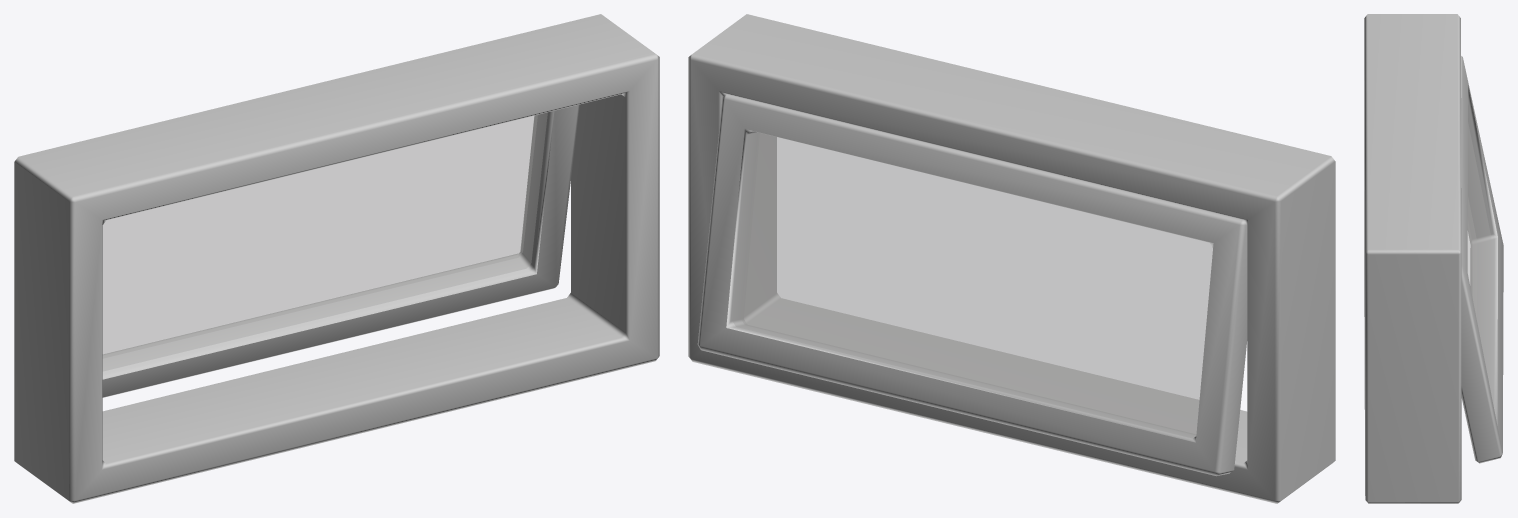
Rendered from Window_27.fbx.
3 renders of one model, left to right at view 1: azimuth 30°, elevation 25°; view 2: azimuth 150°, elevation 25°; view 3: azimuth 270°, elevation 25°, orthographic. The views are drawn at different scales.
Parts seen in each view (by area): view 1: Window_27; view 2: Window_27; view 3: Window_27.
Boxes of the visible parts, x1=… form: Window_27: x1=14, y1=14, x2=659, y2=503; Window_27: x1=688, y1=14, x2=1335, y2=503; Window_27: x1=1364, y1=14, x2=1503, y2=503.
Size of the model in its own units: 286 by 142 by 70.55.
